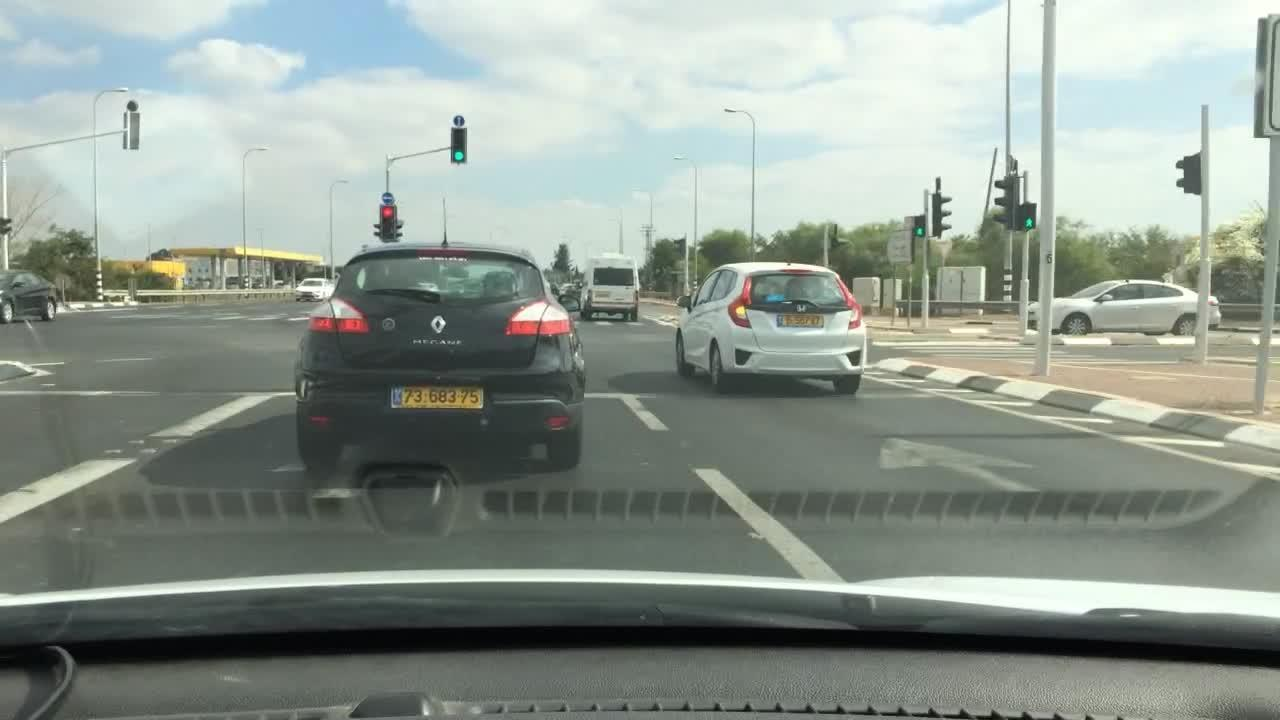Honda: (797, 303, 810, 316)
Renault: (430, 310, 448, 337)
